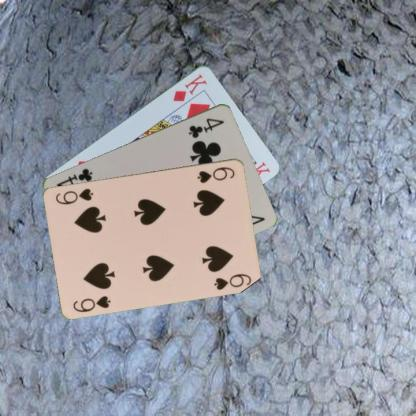4c: (185, 115, 226, 139)
6s: (195, 164, 236, 184), (71, 293, 112, 313)
Kd: (170, 70, 208, 103)
